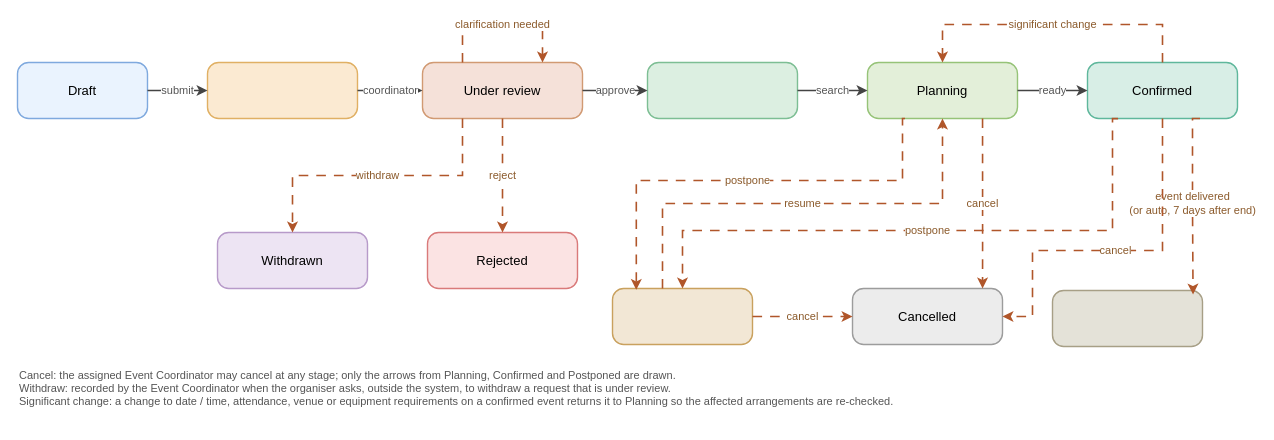
The diagram is 1274 pixels wide and 440 high, and some of its shapes have lost their labels. Each missing label, with the centre of its shape:
"Approved" belongs at pixel 722 90.
"Completed" belongs at pixel 1127 318.
"Postponed" belongs at pixel 682 316.
"Submitted" belongs at pixel 282 90.
